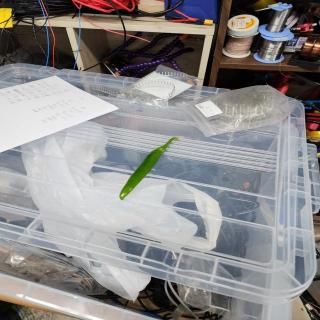Cabai Hijau: (108, 132, 190, 204)
